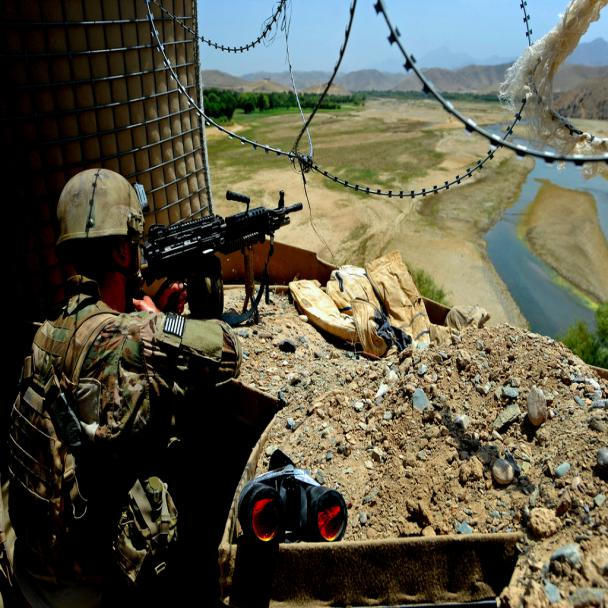Gun: (142, 177, 312, 286)
